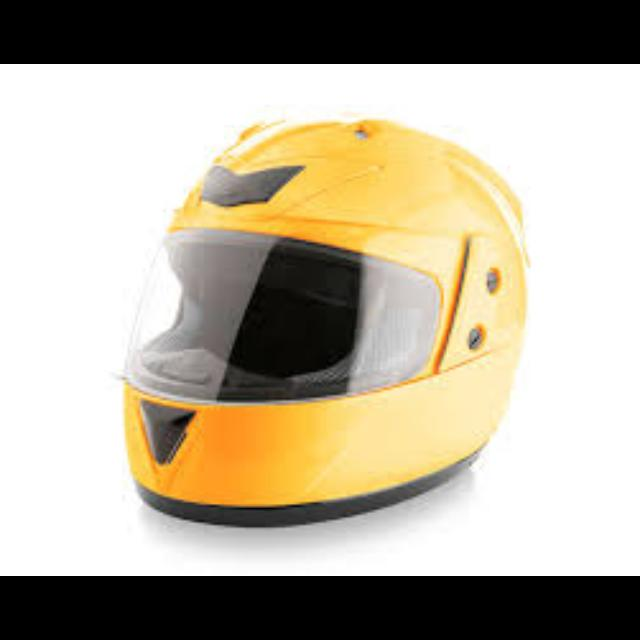motorcycle-helmets: (115, 105, 528, 533)
